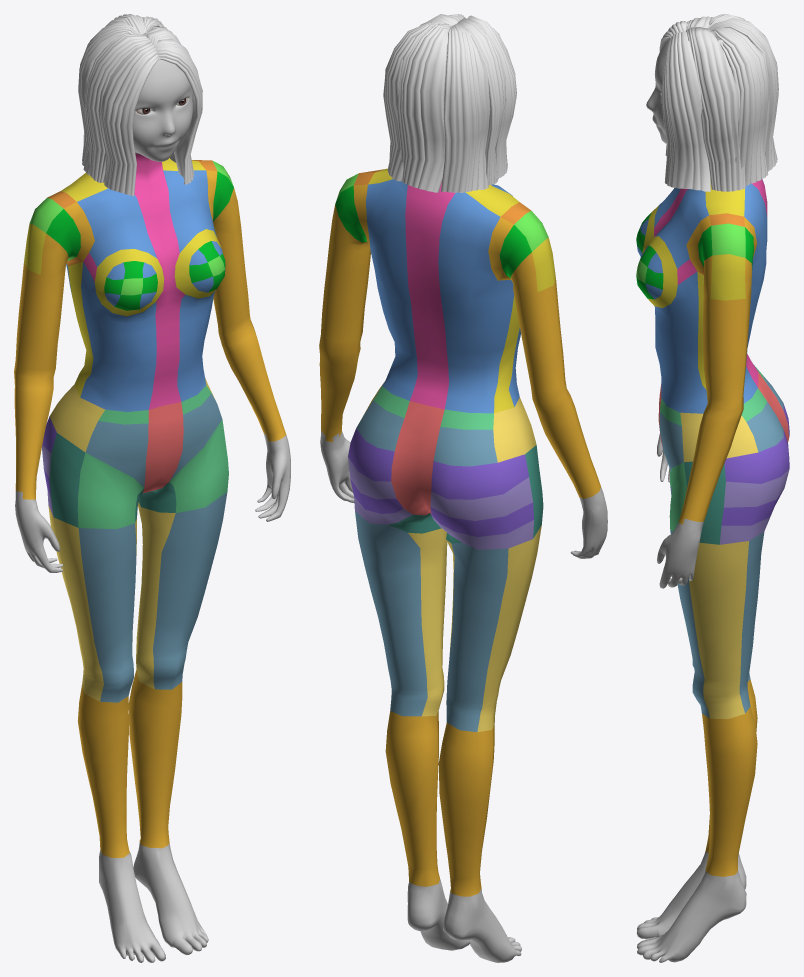
The model's file is player_test.fbx.
3 renders of one model, left to right at view 1: azimuth 30°, elevation 25°; view 2: azimuth 150°, elevation 25°; view 3: azimuth 270°, elevation 25°, orthographic. The views are drawn at different scales.
Parts seen in each view (by area): view 1: body, 넙스 경로; view 2: body, 넙스 경로; view 3: body, 넙스 경로.
Part boxes in pixels (x1,y1,x2,y2): body: [14, 31, 290, 962]; 넙스 경로: [78, 14, 202, 195]; body: [319, 25, 607, 962]; 넙스 경로: [383, 14, 516, 192]; body: [636, 28, 789, 962]; 넙스 경로: [659, 14, 778, 191].
Bounding box in the file's own units: 419 × 1351 × 203.
